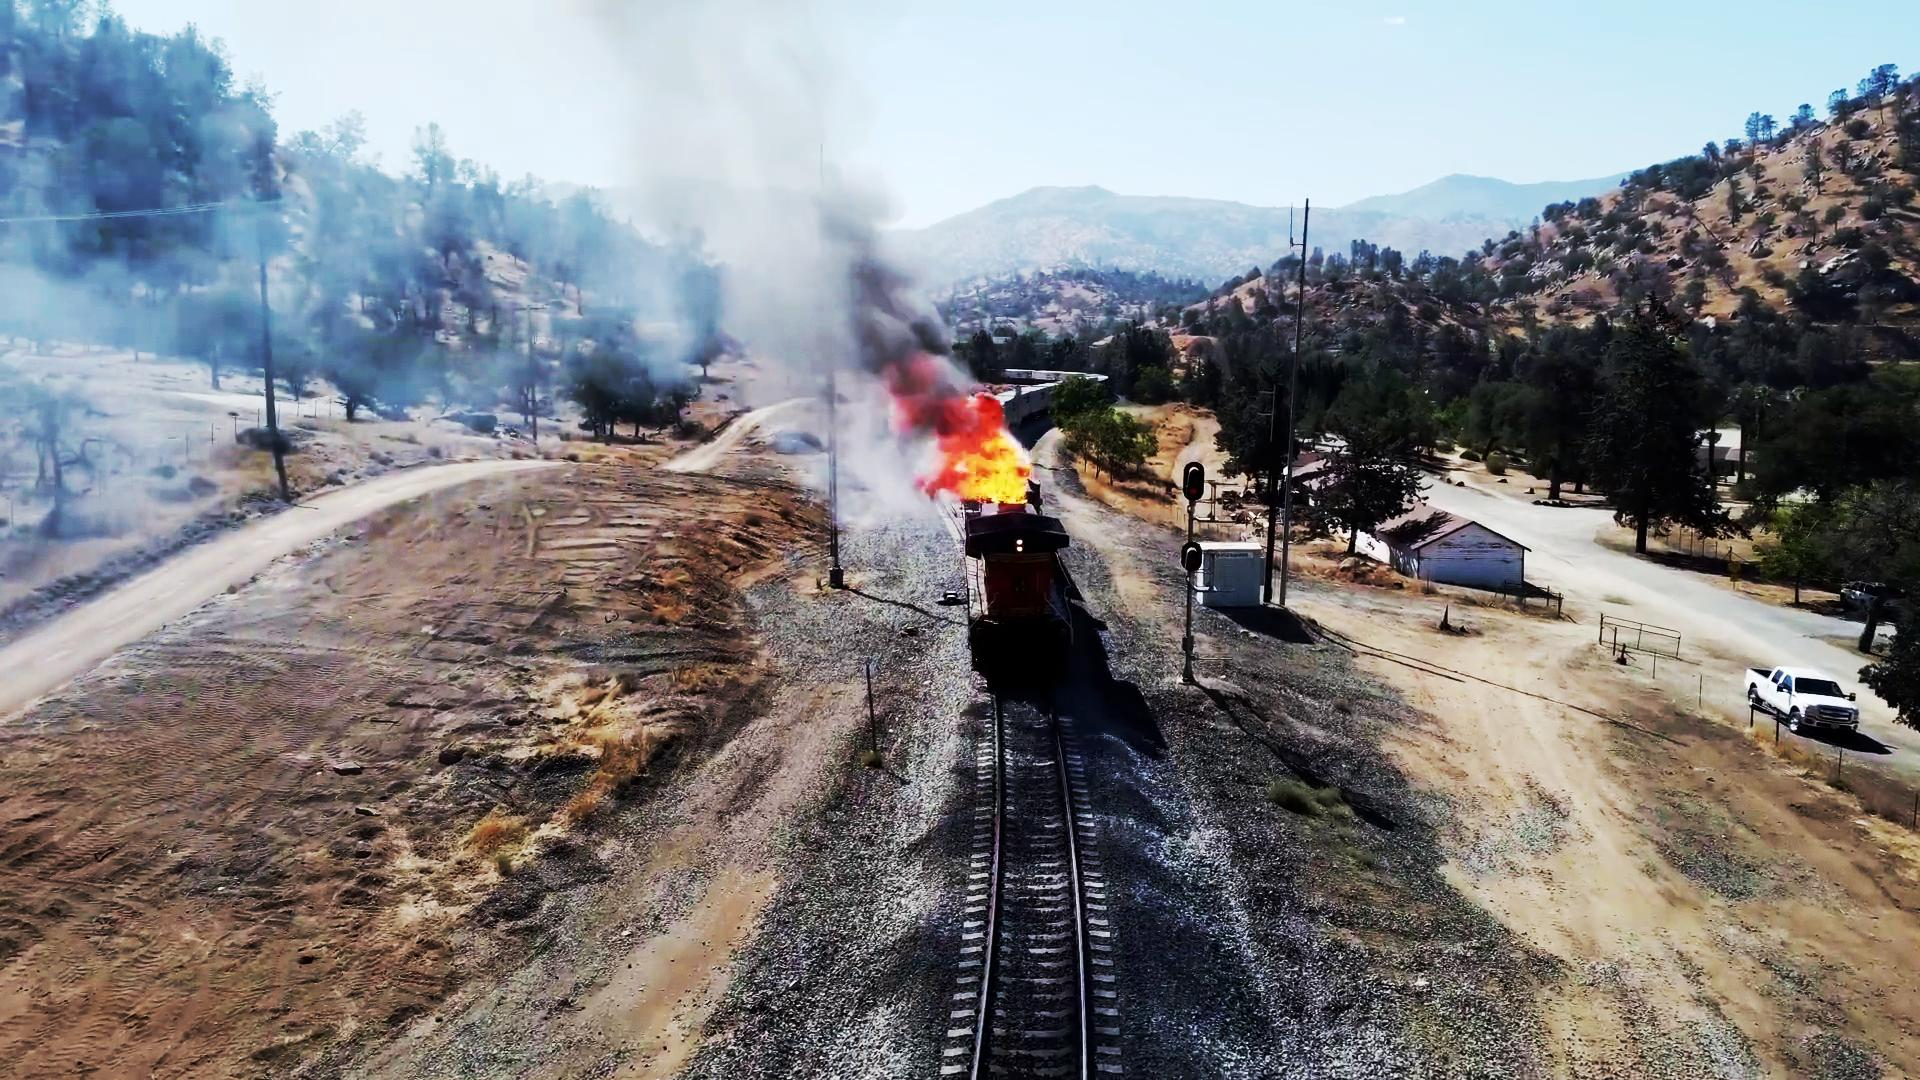fire: (926, 378, 1069, 522)
smoke: (745, 22, 901, 340)
